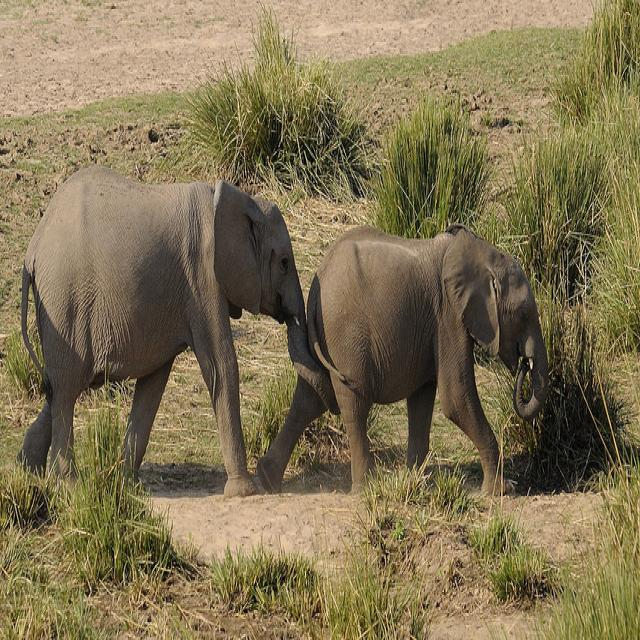Elephant: (17, 163, 350, 498), (296, 222, 550, 498)
